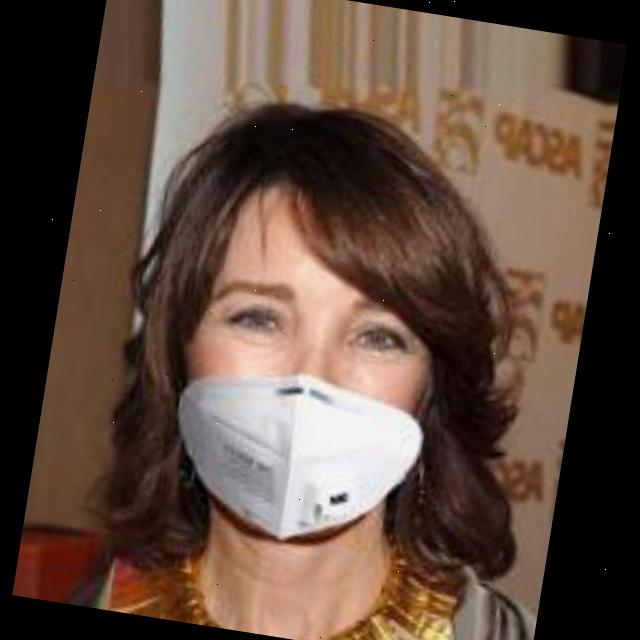suspicion: (86, 117, 516, 561)
